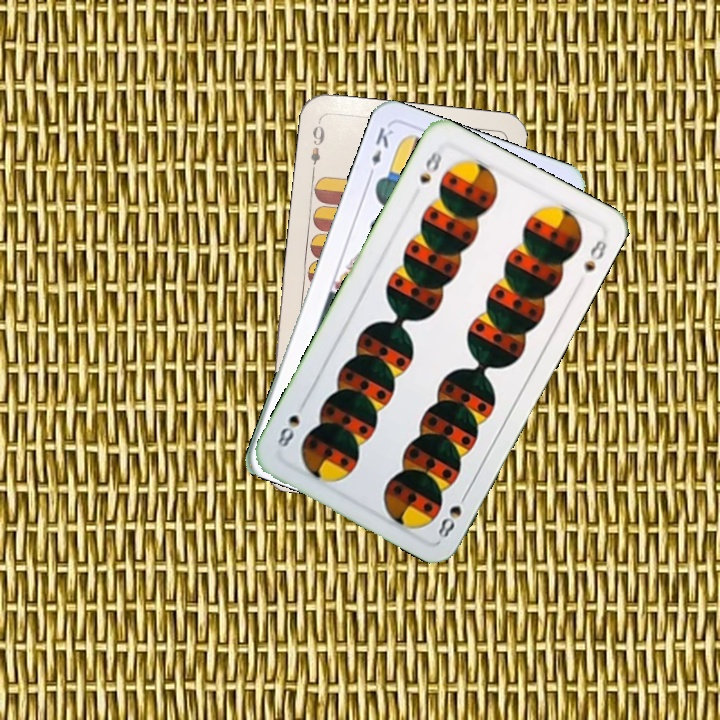E9: (306, 117, 328, 176)
EK: (364, 123, 396, 181)
S8: (434, 487, 471, 541), (415, 142, 445, 186)
